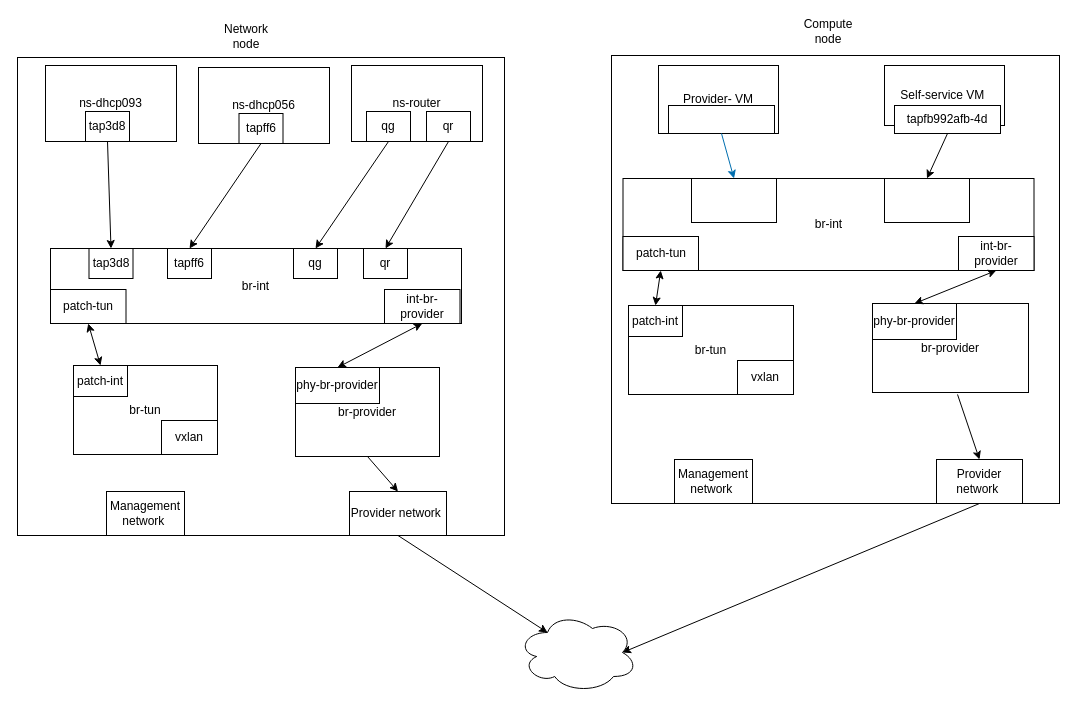
Some shapes in this 1077 by 710 pixel diagram are drawn without their labels. Each missing label, with the centre of its shape:
"Internet" goes at [577,652].
"qvoc5510431-6b" goes at [733,200].
"qvofb992afb-4d" goes at [927,200].
"tapc5510431-6b" goes at [721,119].
